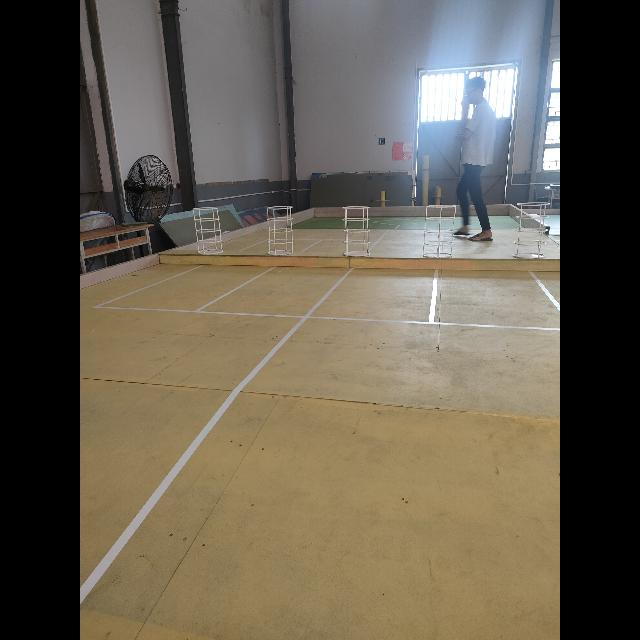S: (512, 202, 550, 259), (422, 204, 456, 259), (193, 207, 223, 255), (342, 206, 370, 257), (266, 206, 294, 255)
